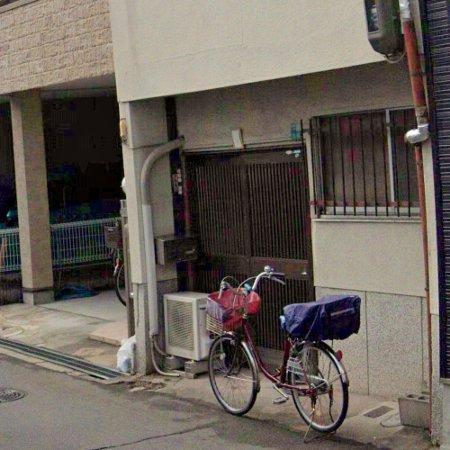bicycles: (209, 267, 360, 433)
